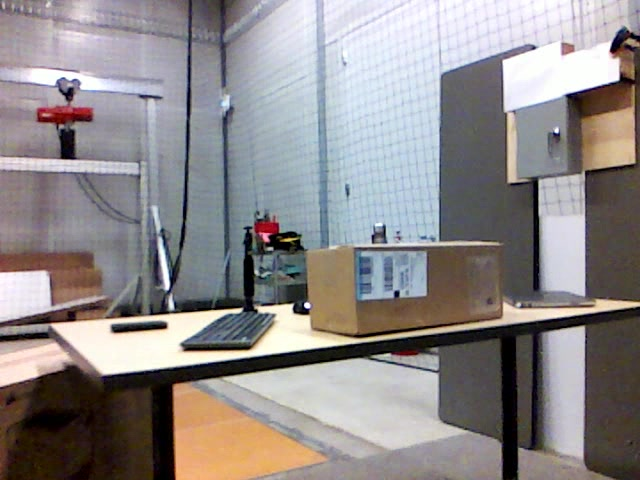box: (1, 344, 153, 478), (307, 242, 509, 338)
